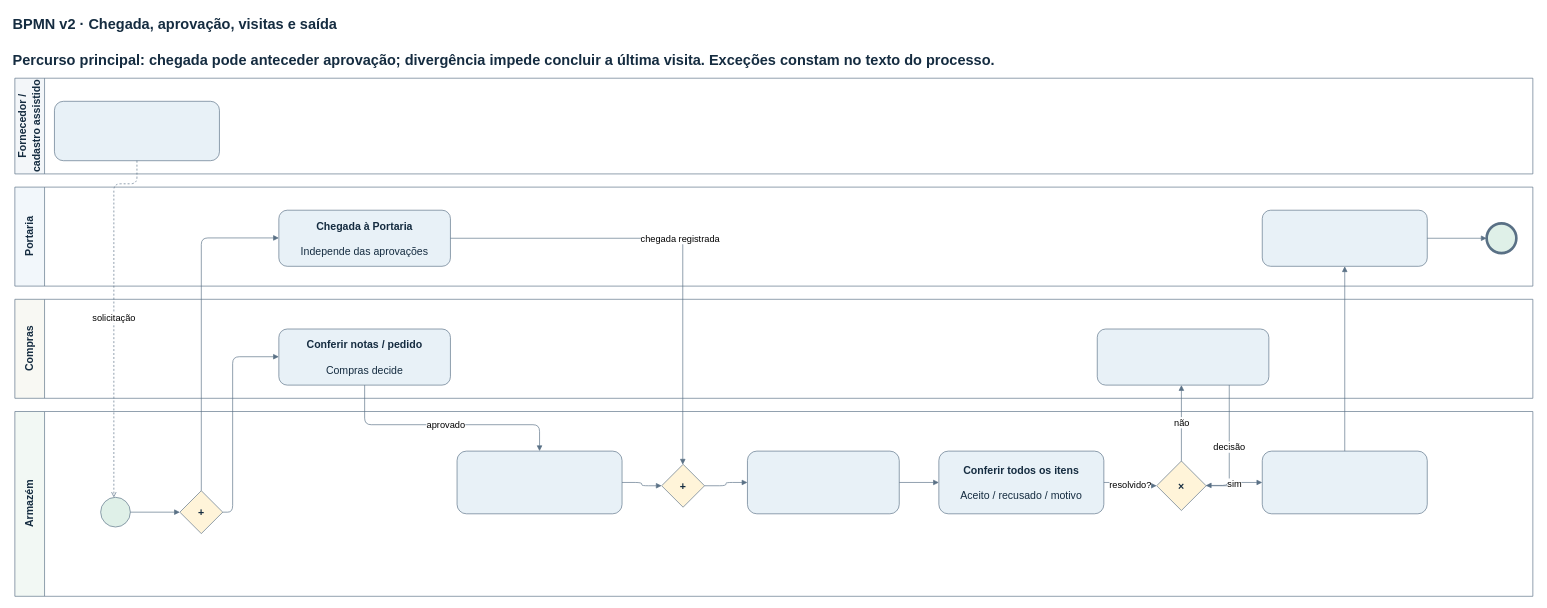
Some shapes in this 1547 by 608 pixel diagram are drawn without their labels. The shapes that lost their labels are listed below. From the top down, each one's centre as x and y in pixels, then its label:
At point (136, 131): "Solicitar carga Notas / horário global".
At point (1344, 238): "Saída da Portaria Permanência total".
At point (1183, 356): "Decidir divergência Compras / justificativa".
At point (539, 482): "Confirmar destinos Armazém após Compras".
At point (823, 482): "Executar visitas Sequência / recursos".
At point (1344, 482): "Última saída do local Descarga concluída".
